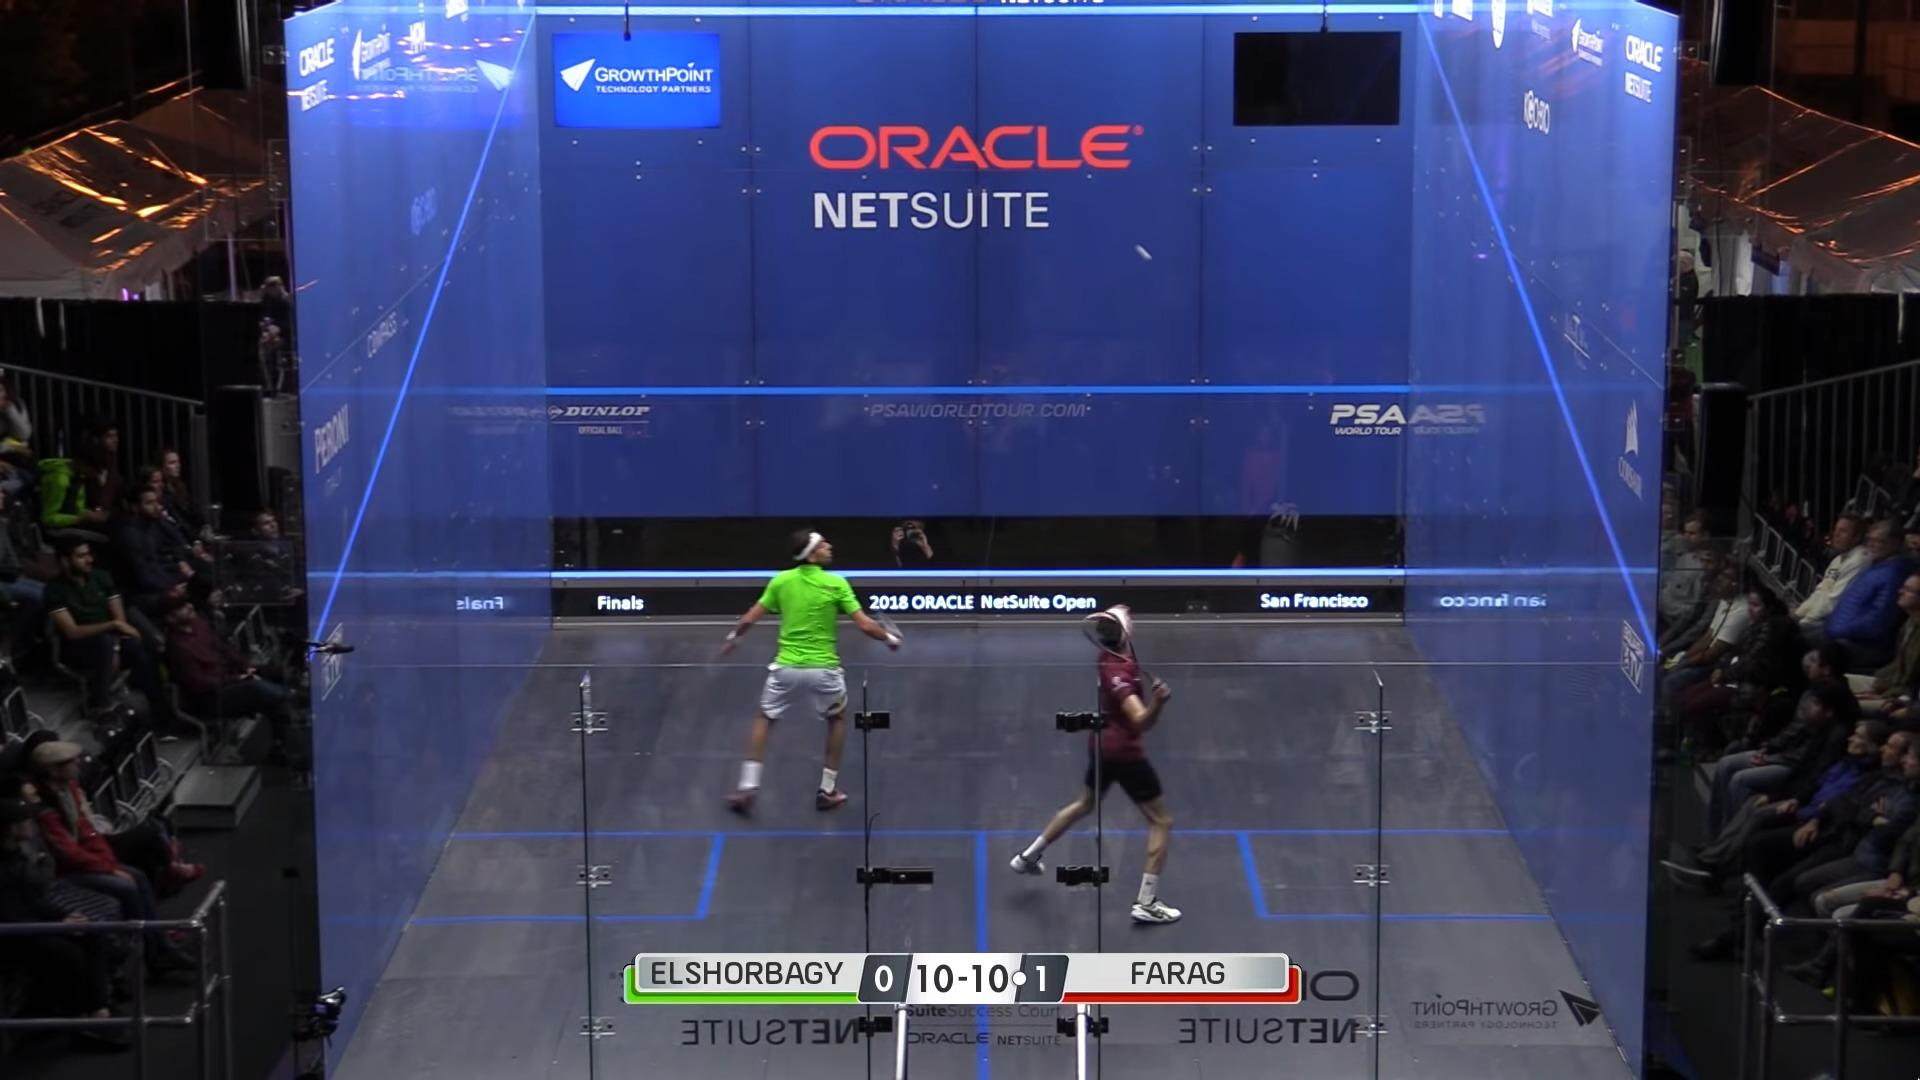Squash-Ball: (1134, 233, 1158, 268)
